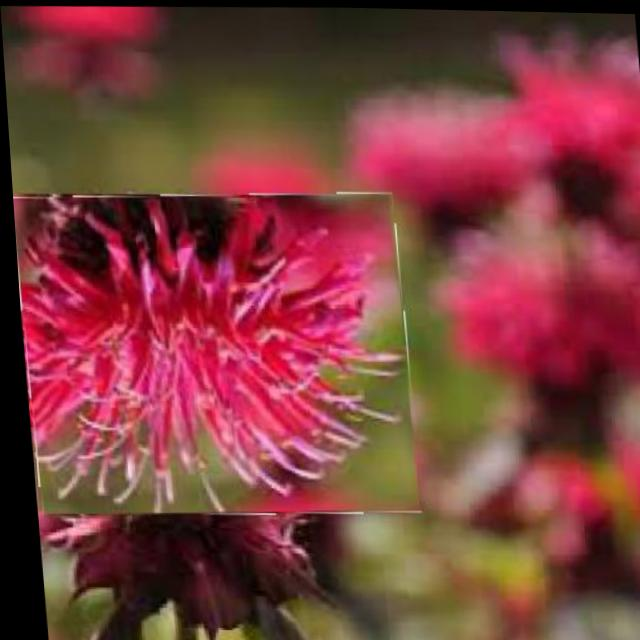Flower: (10, 185, 415, 520)
